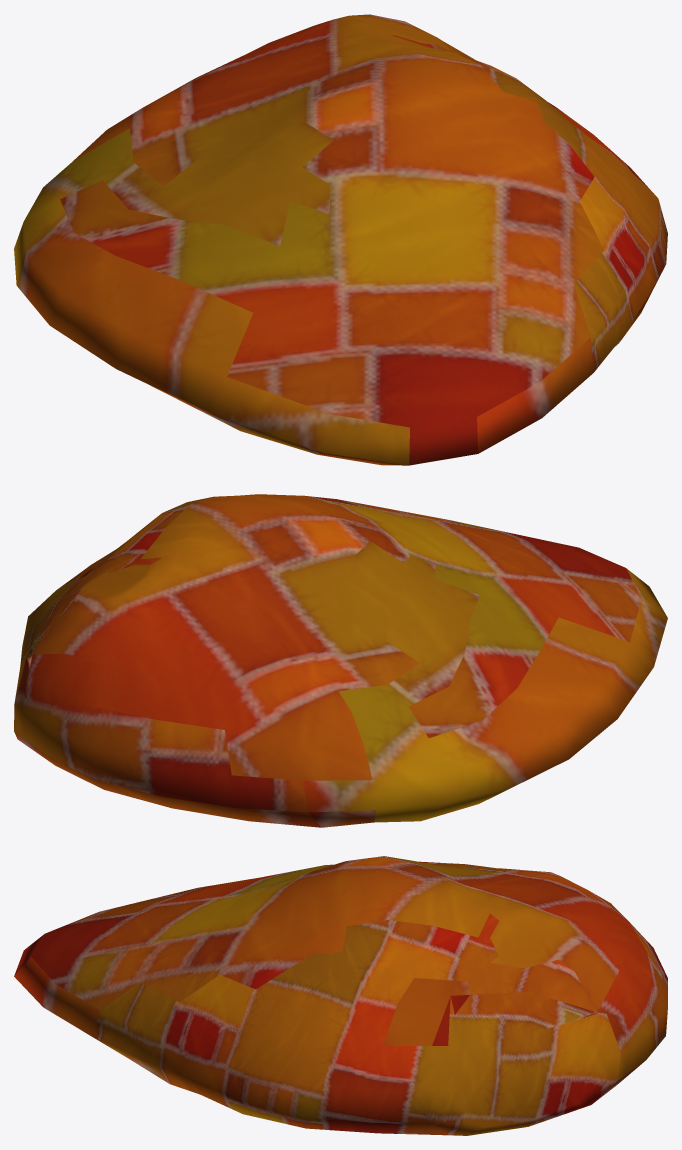
File: messyBlanket.fbx
The picture shows the model from 3 angles, top to bottom: view 1: azimuth 30°, elevation 25°; view 2: azimuth 150°, elevation 25°; view 3: azimuth 270°, elevation 25°; orthographic projection. The views are drawn at different scales.
Visible parts, largest first — view 1: pCube61; view 2: pCube61; view 3: pCube61.
Part boxes in pixels (left/top/right/bottom): pCube61: left=14, top=14, right=667, bottom=465; pCube61: left=14, top=494, right=667, bottom=827; pCube61: left=14, top=856, right=667, bottom=1135.
Bounding box in the file's own units: 1.09 × 0.4043 × 1.27.
